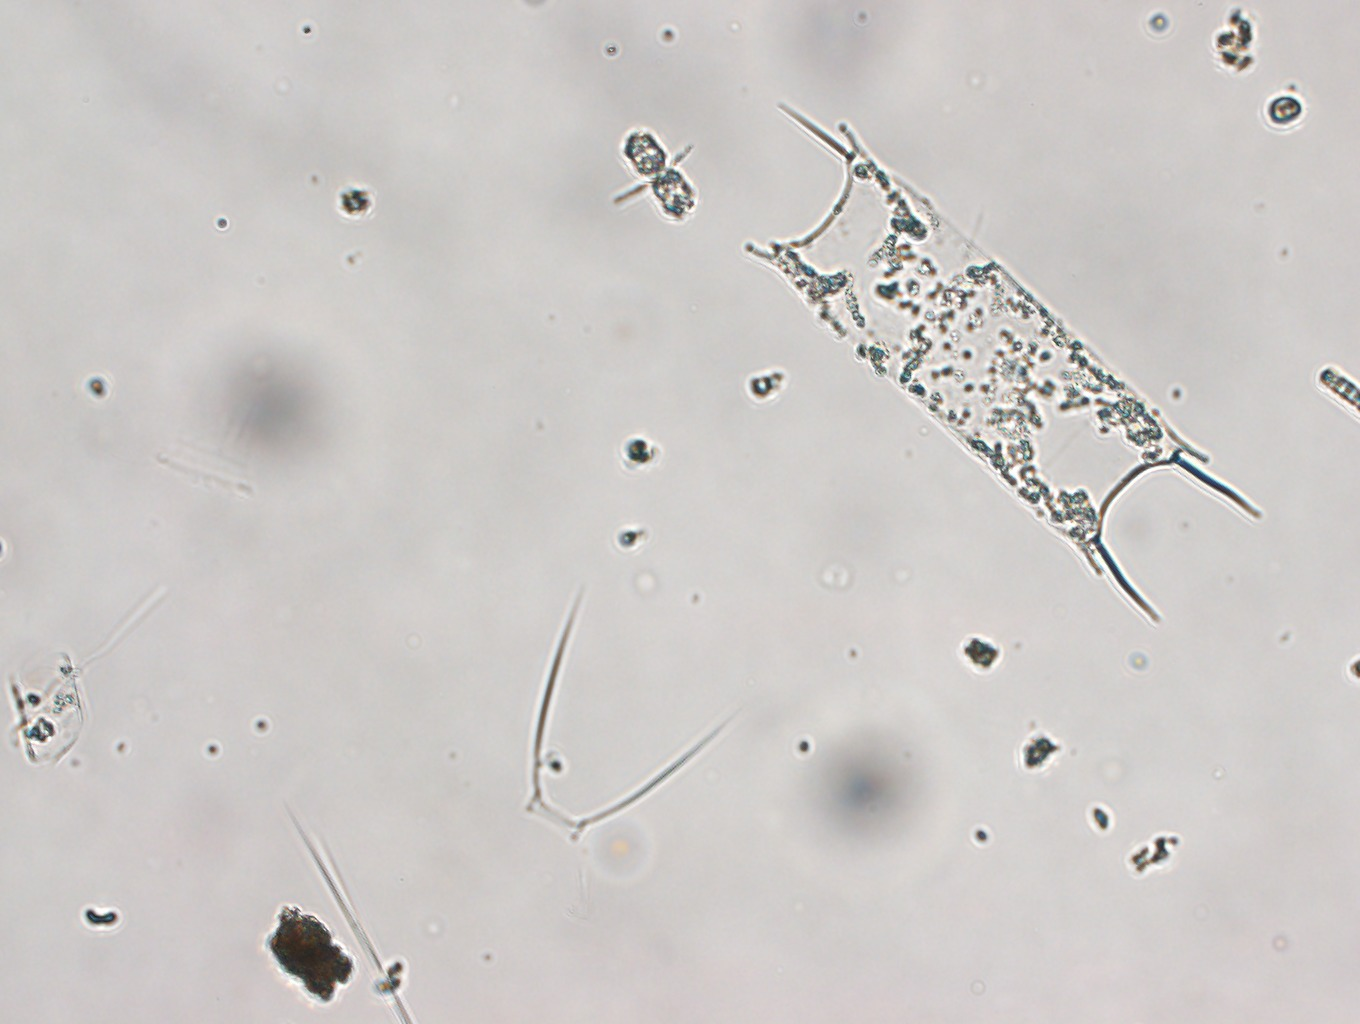biddulphia: (732, 91, 1266, 626)
chaetoceros: (513, 578, 740, 847)
